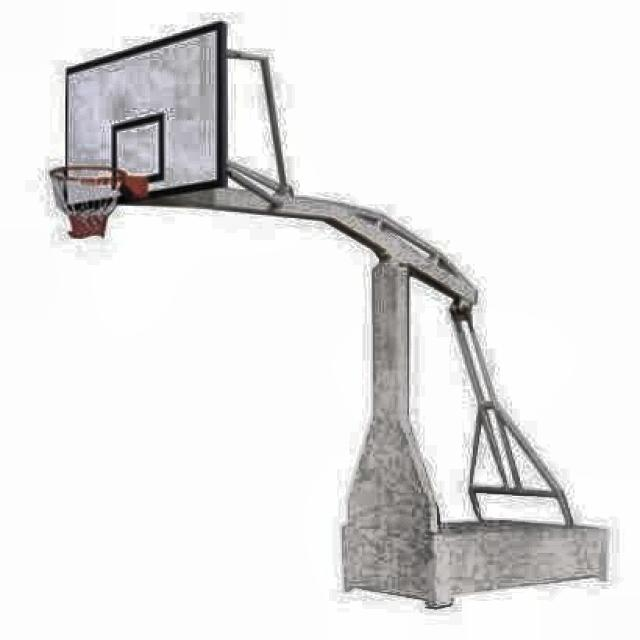rim: (46, 166, 127, 240)
